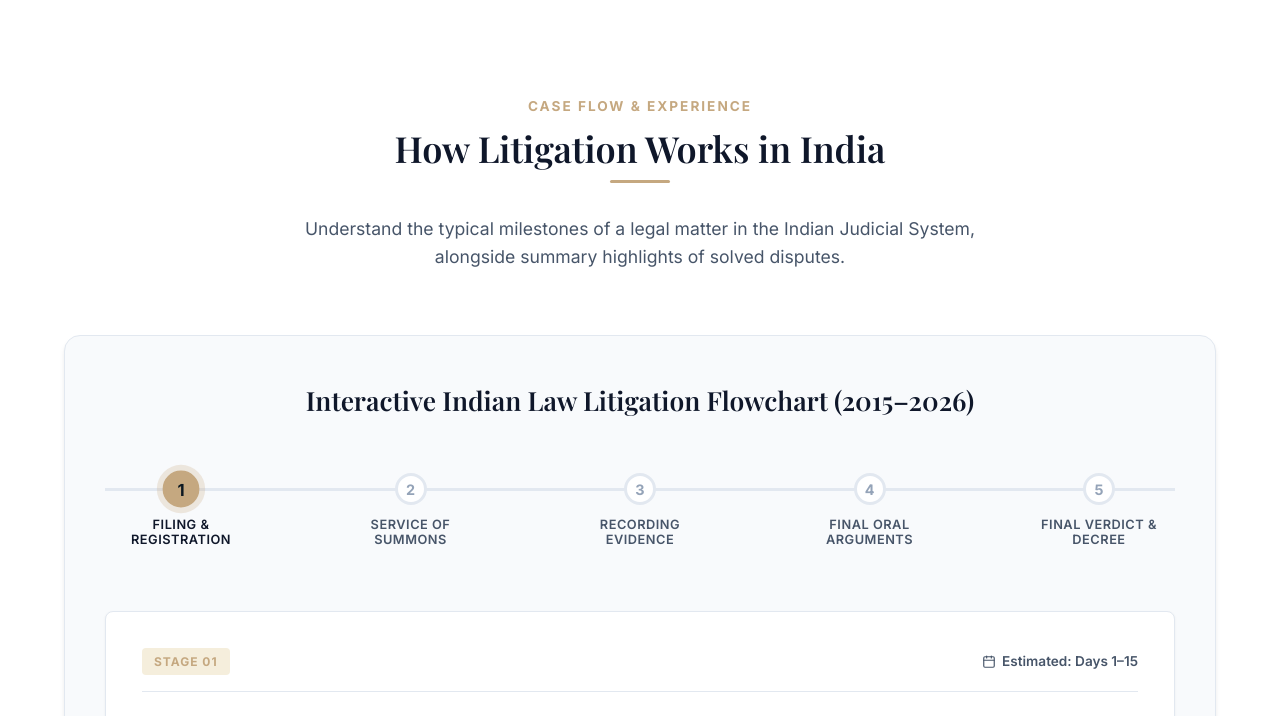
Scenario: CaseStudies › clicking a step indicator directly navigates to that step
Click the button with aria-label "go to step 3".
click(640, 510)  # box [580,473,700,547]
(page scrolled)
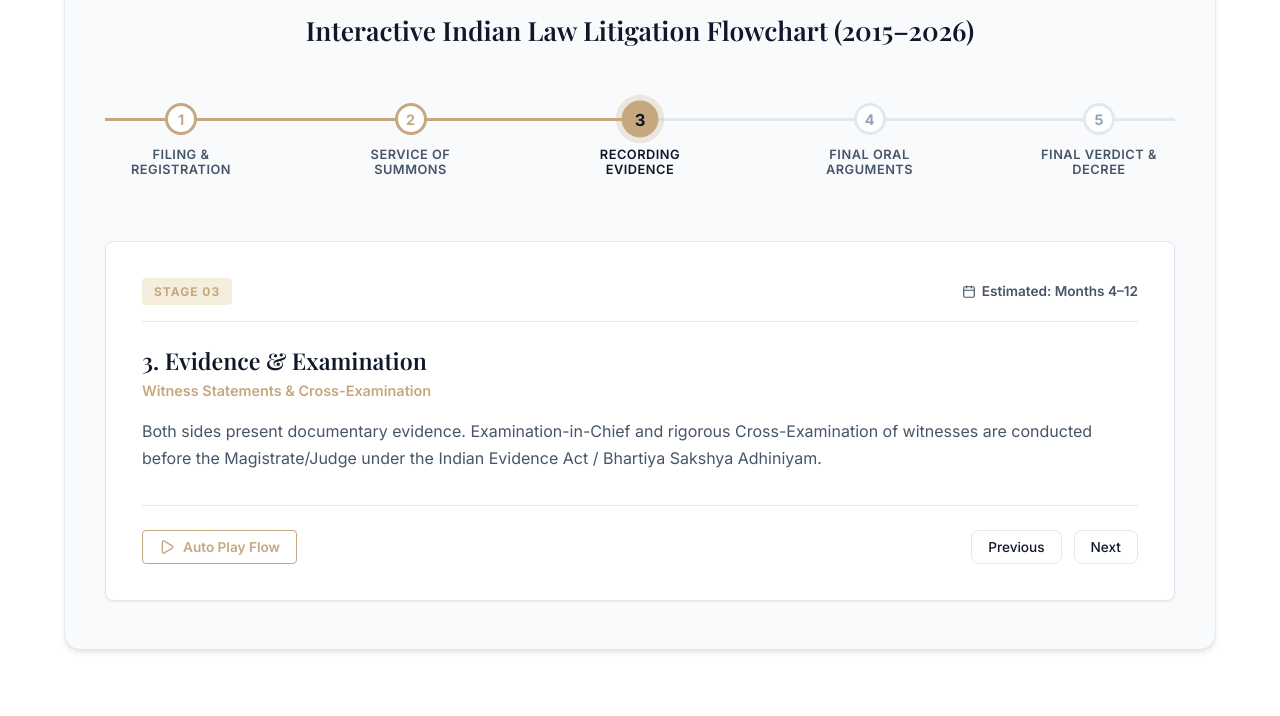
Result: the heading "3. Evidence & Examination" is shown at [142,345,427,376]
